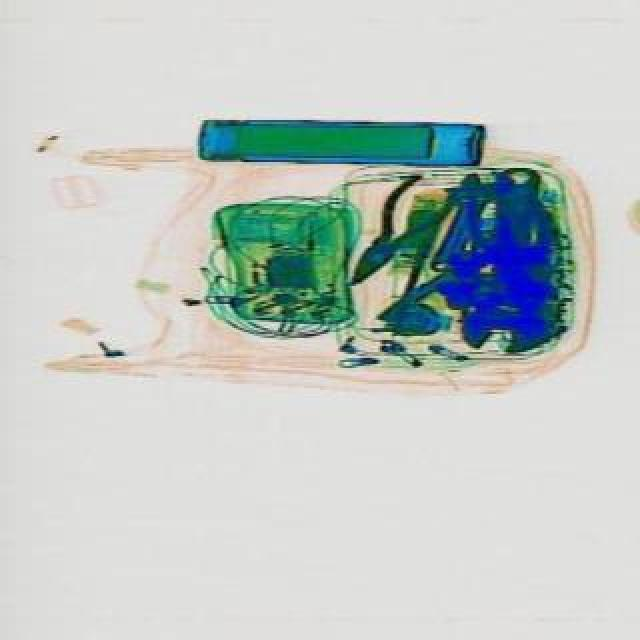scissors: (454, 168, 558, 356)
wrench: (324, 166, 456, 302)
